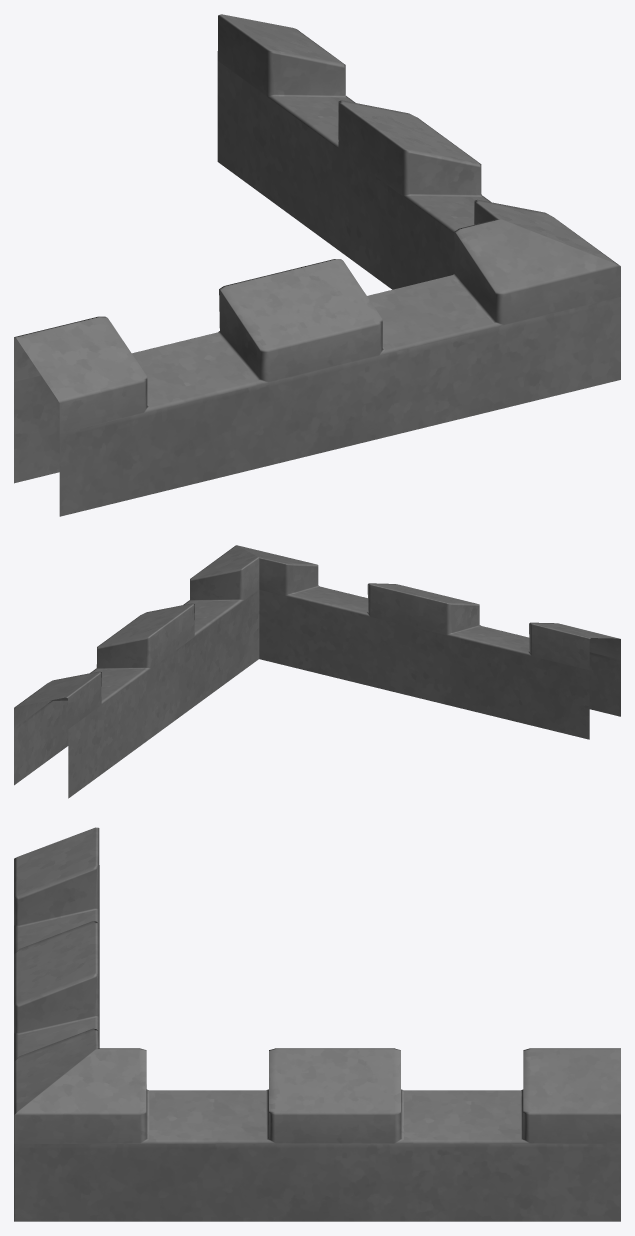
The model's file is BrickRailing_OutsideCorner.fbx.
3 renders of one model, top to bottom at view 1: azimuth 30°, elevation 25°; view 2: azimuth 150°, elevation 25°; view 3: azimuth 270°, elevation 25°, orthographic. The views are drawn at different scales.
Parts seen in each view (by area): view 1: BrickRailing_OutsideCorner; view 2: BrickRailing_OutsideCorner; view 3: BrickRailing_OutsideCorner.
Boxes of the visible parts, box(x1,y1,x2,y2) form: BrickRailing_OutsideCorner: box(14, 14, 620, 516); BrickRailing_OutsideCorner: box(14, 545, 620, 798); BrickRailing_OutsideCorner: box(14, 827, 620, 1221).
Size of the model in its own units: 531 by 133 by 531.
Materials: 1 (1 with a texture image).
